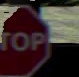Stop: (0, 5, 59, 73)
